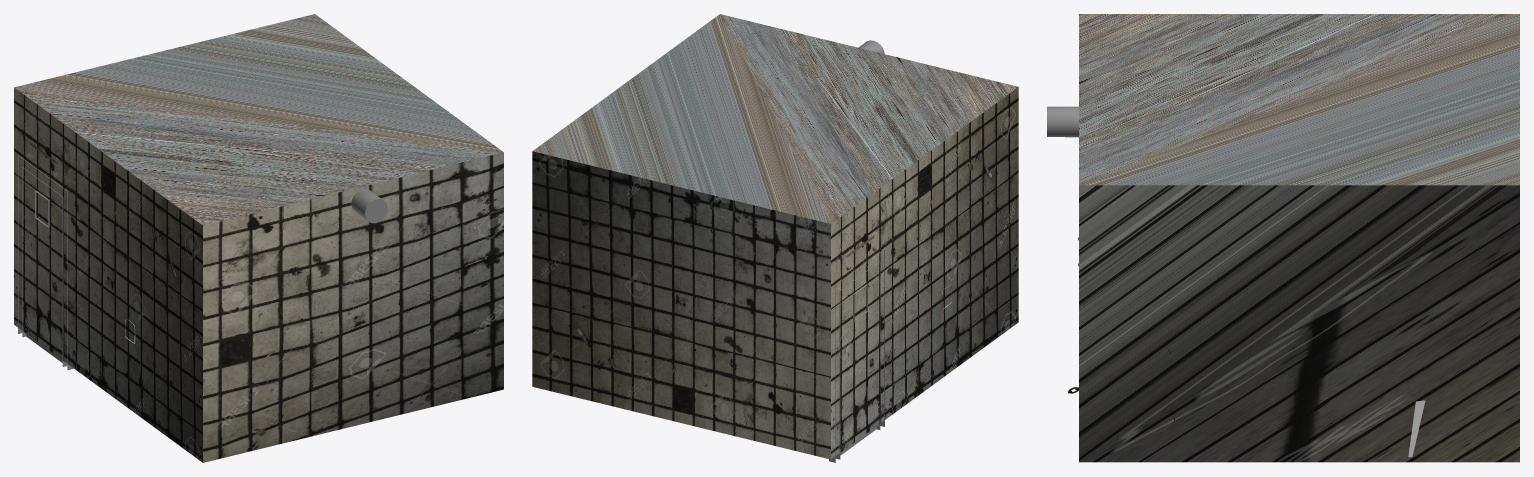
File: sawroom.glb
The picture shows the model from 3 angles, left to right: view 1: azimuth 30°, elevation 25°; view 2: azimuth 150°, elevation 25°; view 3: azimuth 270°, elevation 25°; orthographic projection. The views are drawn at different scales.
Visible parts, largest first — view 1: pCube1, pCube42, pCylinder10; view 2: pCube1, pCube42; view 3: pCube1, pCylinder10.
Part boxes in pixels (<box>): pCube1: <box>14,14,503,462</box>; pCube42: <box>18,155,73,370</box>; pCylinder10: <box>351,189,387,223</box>; pCube1: <box>532,14,1018,459</box>; pCube42: <box>829,249,884,462</box>; pCube1: <box>1079,14,1519,462</box>; pCylinder10: <box>1047,106,1078,137</box>.
Size of the model in its own units: 0.1784 by 0.1352 by 0.2038.
17 materials, 7 textured.
